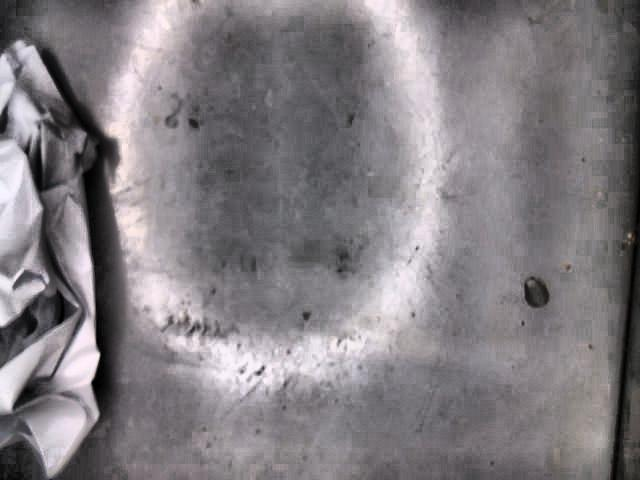Paper: (0, 41, 103, 480)
